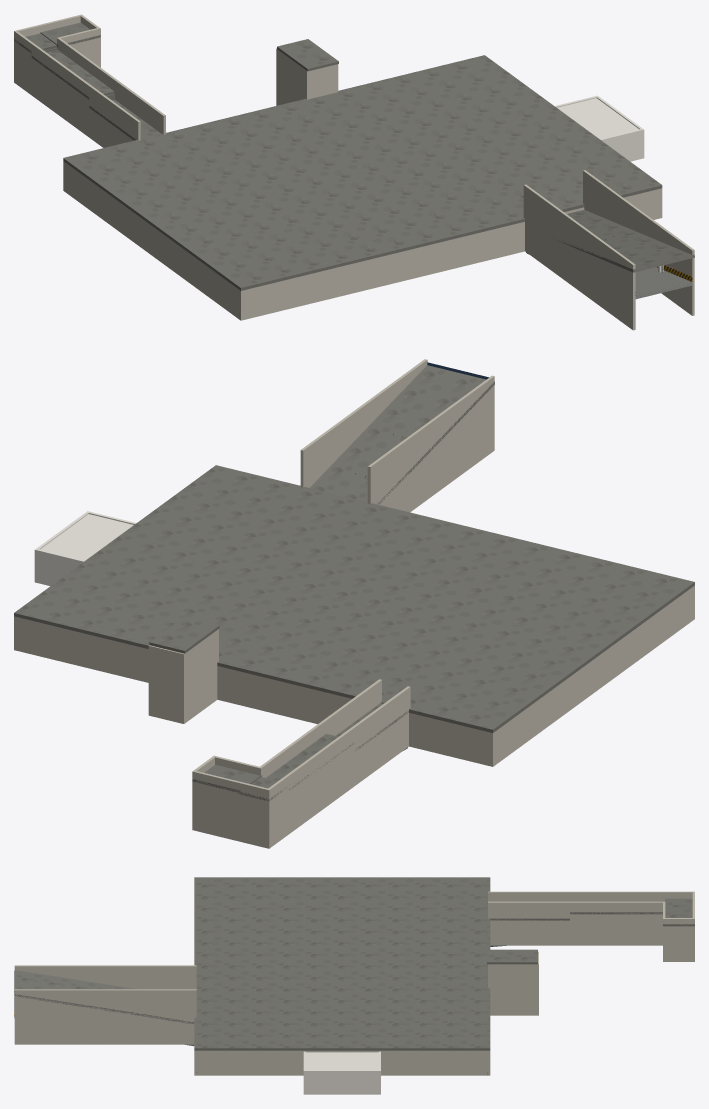
File: shelter.glb
3 views of the same model, one above another, from view 1: azimuth 30°, elevation 25°; view 2: azimuth 150°, elevation 25°; view 3: azimuth 270°, elevation 25° (orthographic). The views are drawn at different scales.
Parts seen in each view (by area): view 1: Mesh~3, Mesh~4, Mesh~37, Mesh~24; view 2: Mesh~3, Mesh~4, Mesh~37; view 3: Mesh~3, Mesh~4, Mesh~37.
Part boxes in pixels (box(x1,y1,x2,y2)): Mesh~3: box(14, 22, 694, 290); Mesh~4: box(14, 14, 694, 330); Mesh~37: box(554, 95, 644, 161); Mesh~24: box(526, 252, 692, 299); Mesh~3: box(14, 365, 694, 801); Mesh~4: box(14, 359, 694, 848); Mesh~37: box(34, 511, 136, 586); Mesh~3: box(14, 877, 694, 1050); Mesh~4: box(14, 891, 694, 1075); Mesh~37: box(303, 1051, 380, 1094).
Size of the model in its own units: 49.5 by 6.9 by 74.83.
132 materials, 55 textured.
